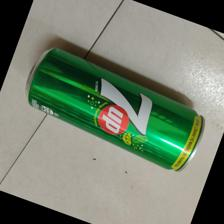7up: (23, 47, 205, 172)
